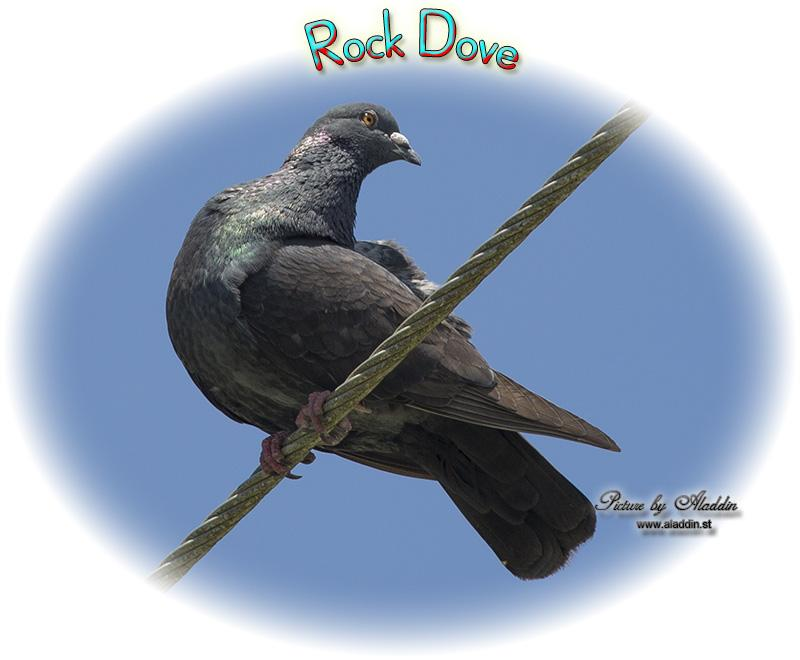Flying Rat: (158, 101, 594, 543)
